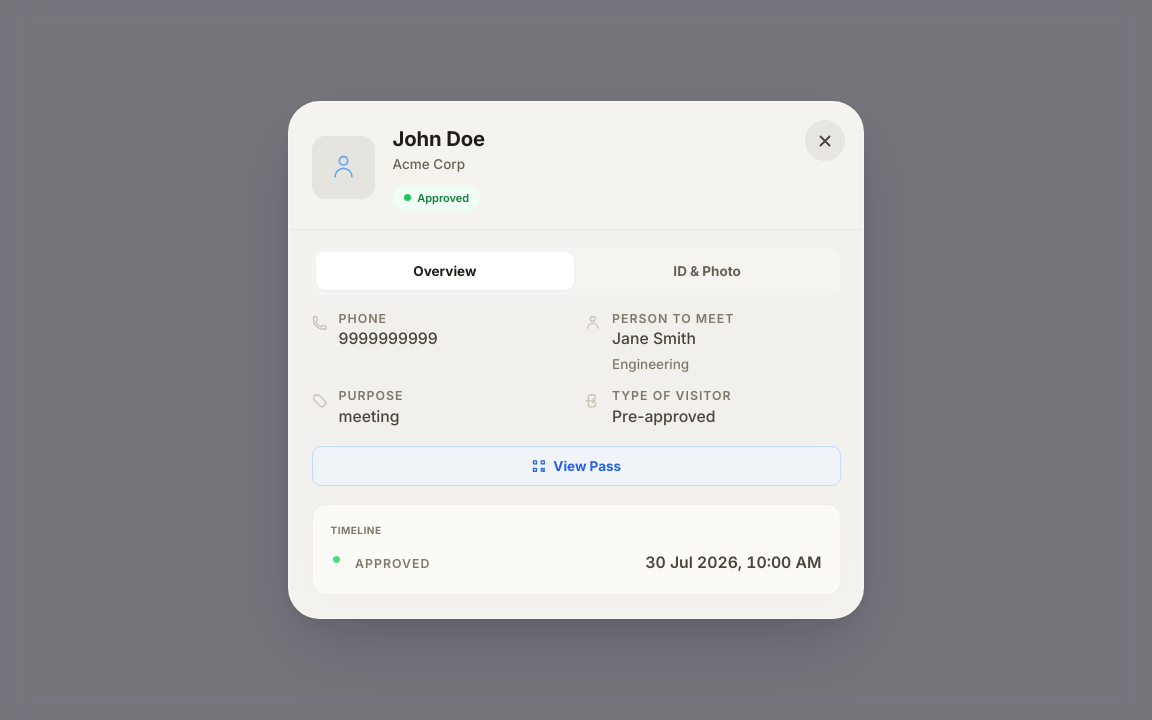
Test case: VisitorDetails — ID document is hidden from an HOD › shows the ID type and its masked number on the ID tab for a non-HOD viewer
The image size is (1152, 720).
Click the tab "ID & Photo" at (707, 271), box [578, 252, 836, 290]
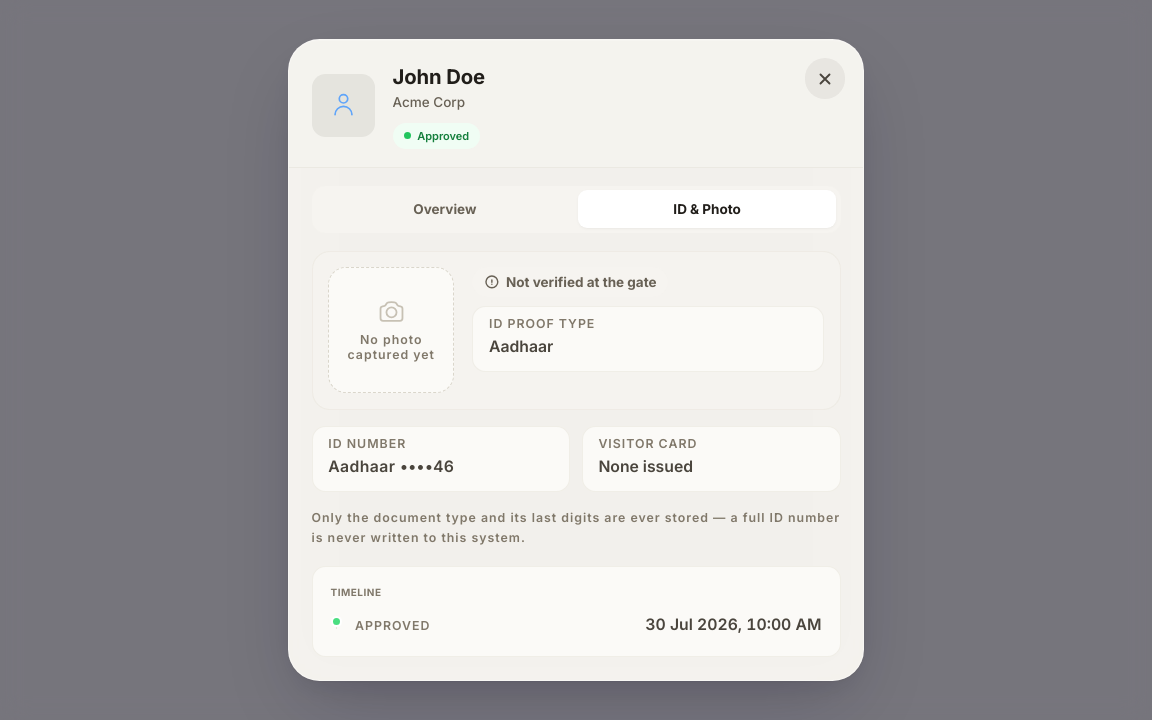
Now the text "ID Proof Type" is shown, box [489, 316, 595, 331]
Now the text "Aadhaar" is shown, box [489, 337, 553, 356]
Now the text "Aadhaar ••••46" is shown, box [328, 457, 454, 476]
